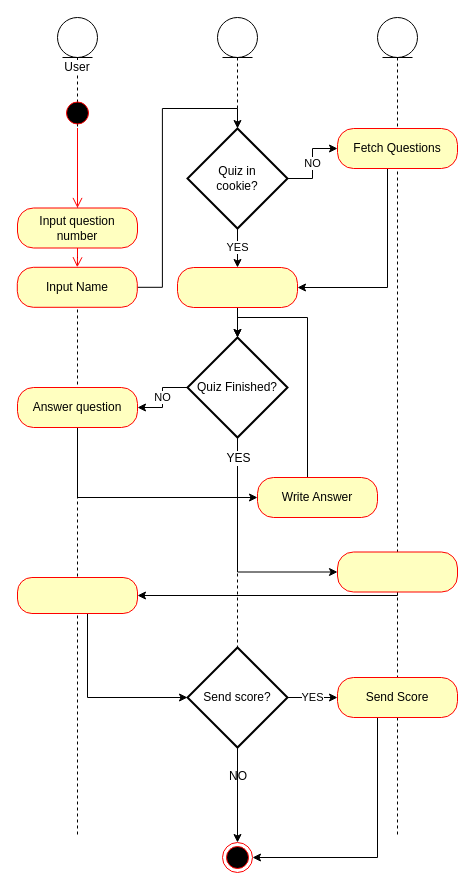
The diagram is 476 pixels wide and 890 high, and some of its shapes have lost their labels. Each missing label, with the box of its shape:
API: (376, 16, 418, 838)
App: (216, 16, 258, 838)
Construct Quiz Object: (176, 266, 298, 308)
Input phone ?: (16, 576, 138, 614)
Save score: (336, 551, 458, 592)
